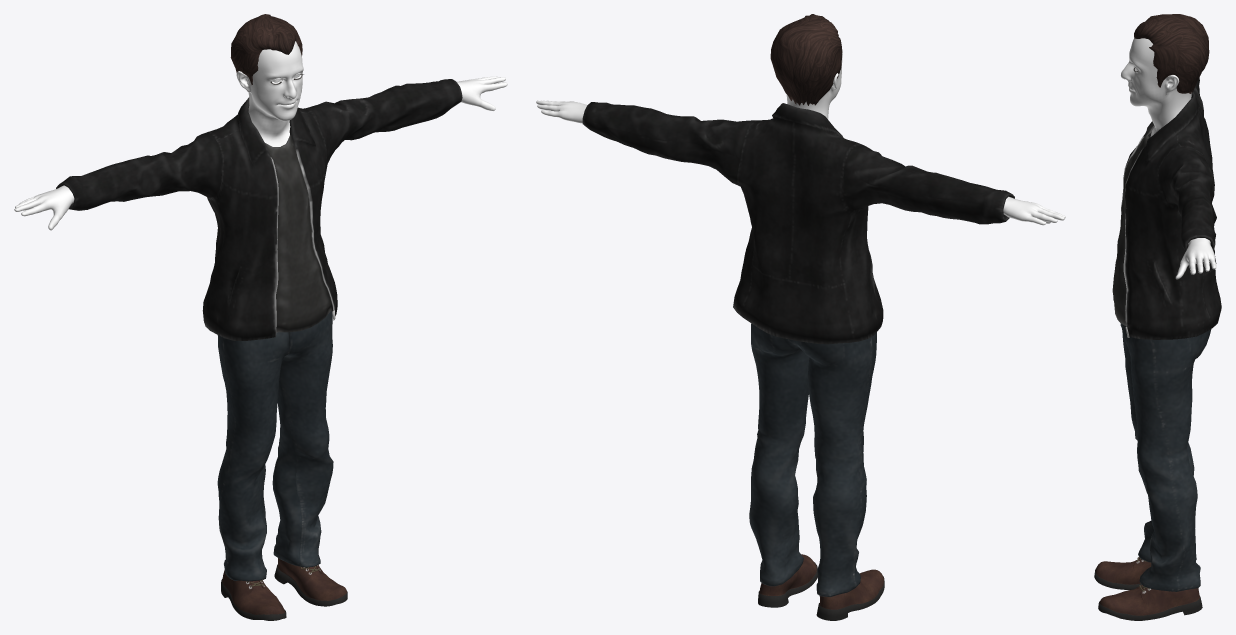
Rendered from Man.gltf.
3 renders of one model, left to right at view 1: azimuth 30°, elevation 25°; view 2: azimuth 150°, elevation 25°; view 3: azimuth 270°, elevation 25°, orthographic. The views are drawn at different scales.
Size of the model in its own units: 174 by 188 by 37.45.
Materials: 2 (2 with a texture image).
